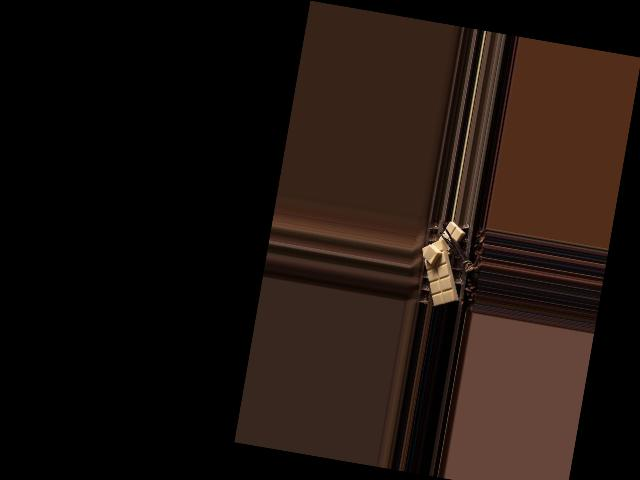chocolate: (413, 234, 467, 308)
